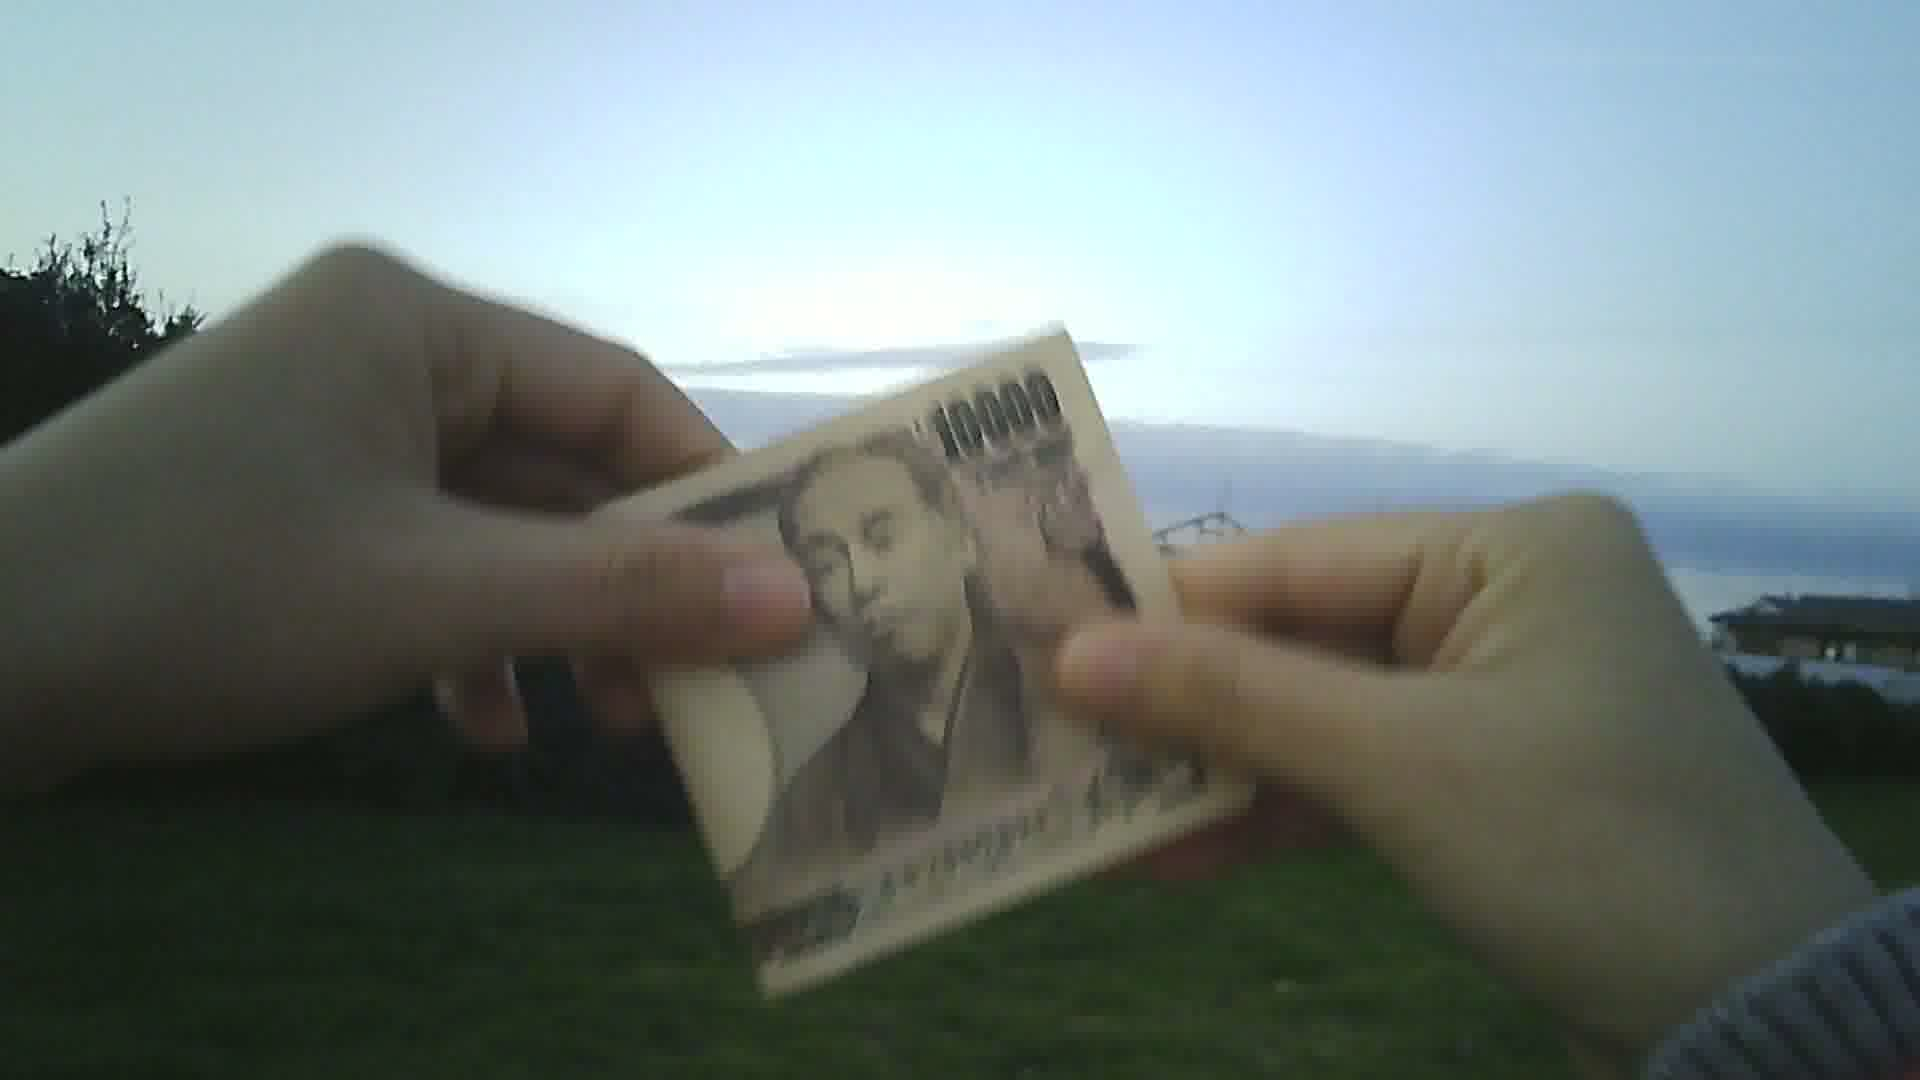10,000 Yen: (560, 326, 1313, 1015)
